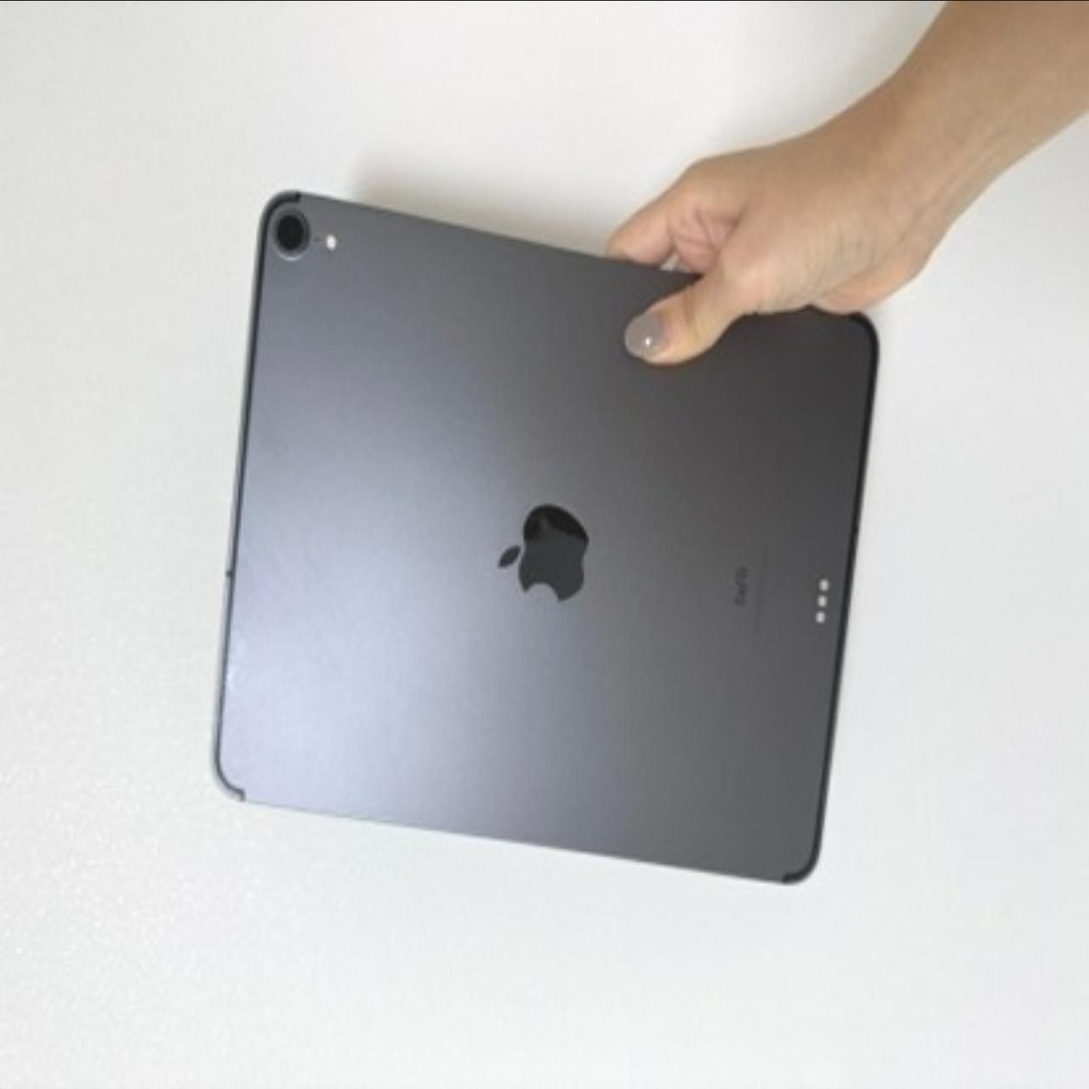Tablet_PC: (202, 176, 908, 898)
